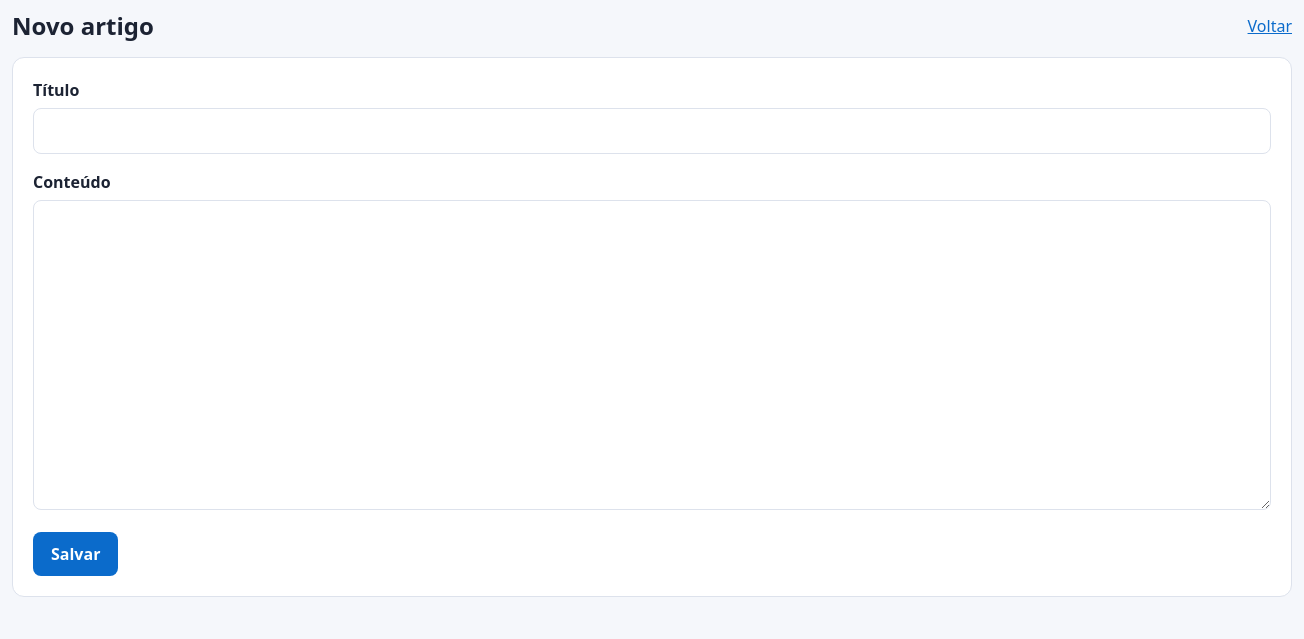
it: ArticleFormPage › exige título
Type "Algum conteúdo" into the text box labelled "Conteúdo". click: (652, 355)
box: [33,200,1271,510]
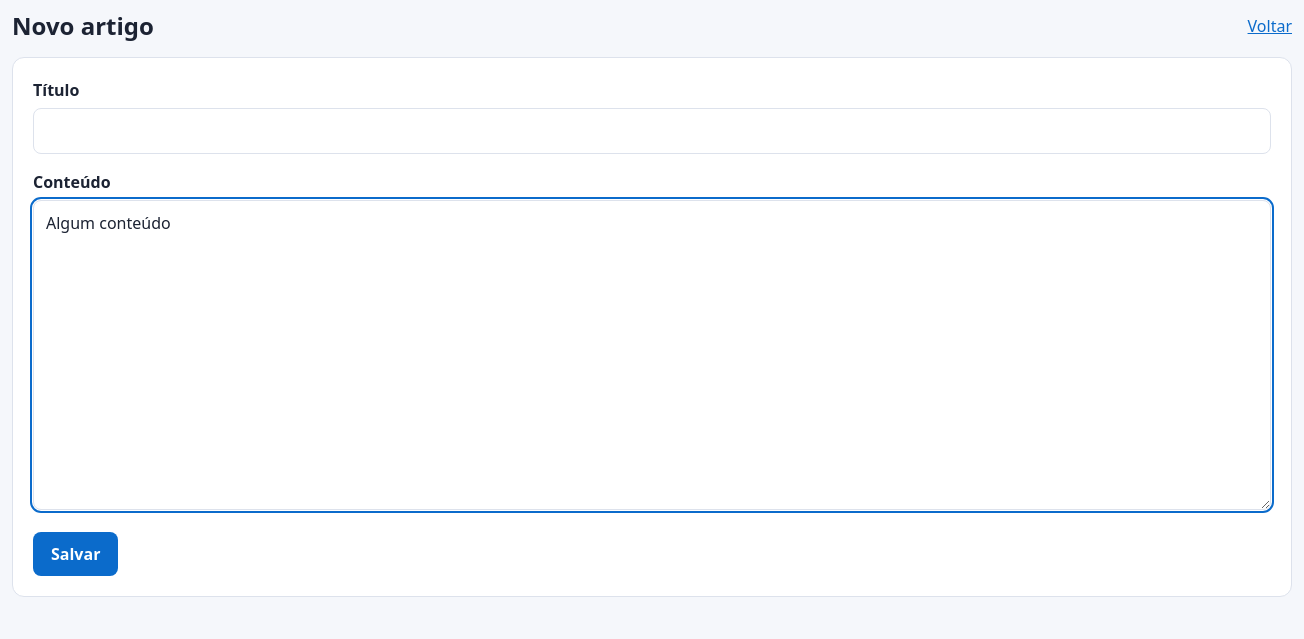
Click the button "Salvar". click: click(76, 554)
box: [33,532,118,576]
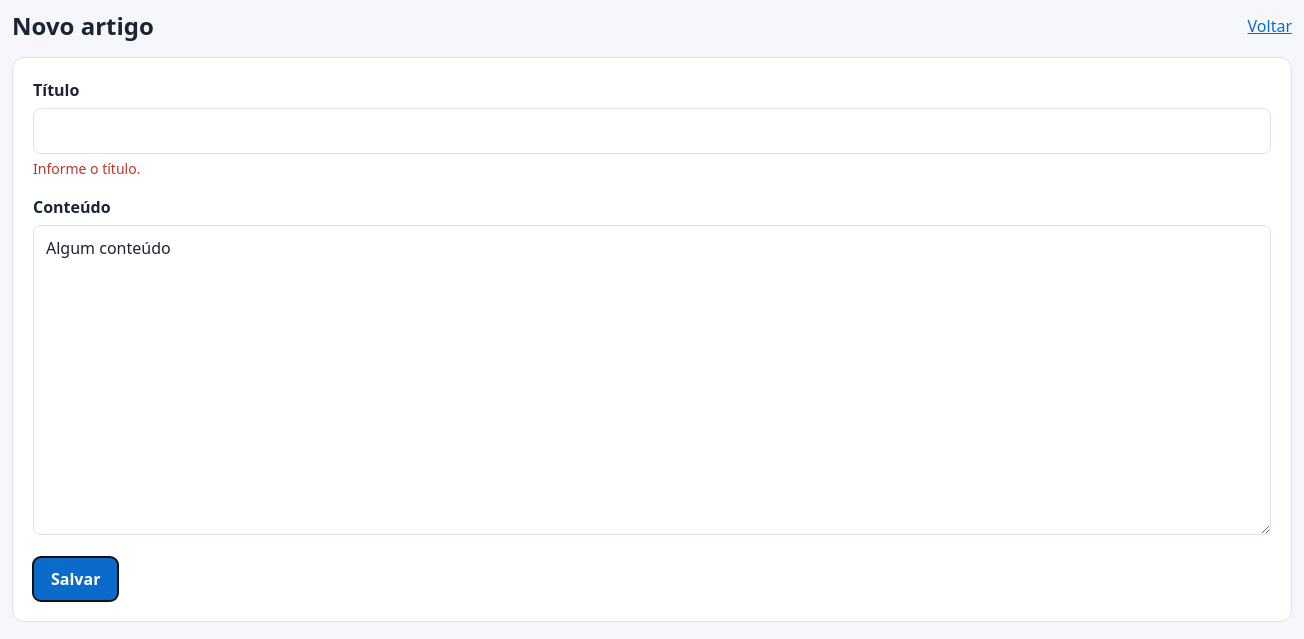
Check: the text "Informe o título." is shown, box [33,159,140,178]
